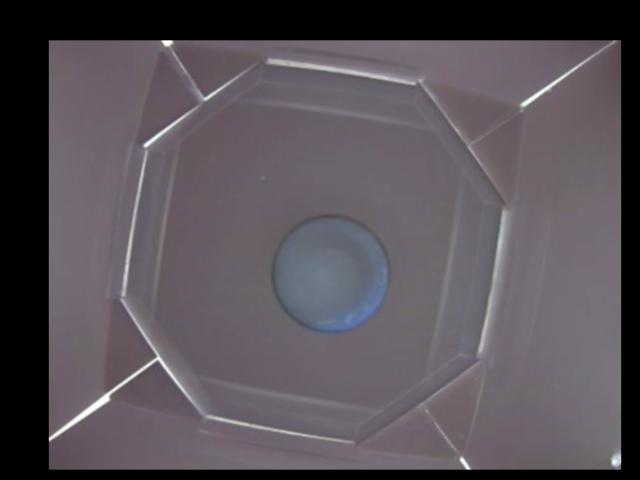Bottle: (269, 213, 389, 334)
